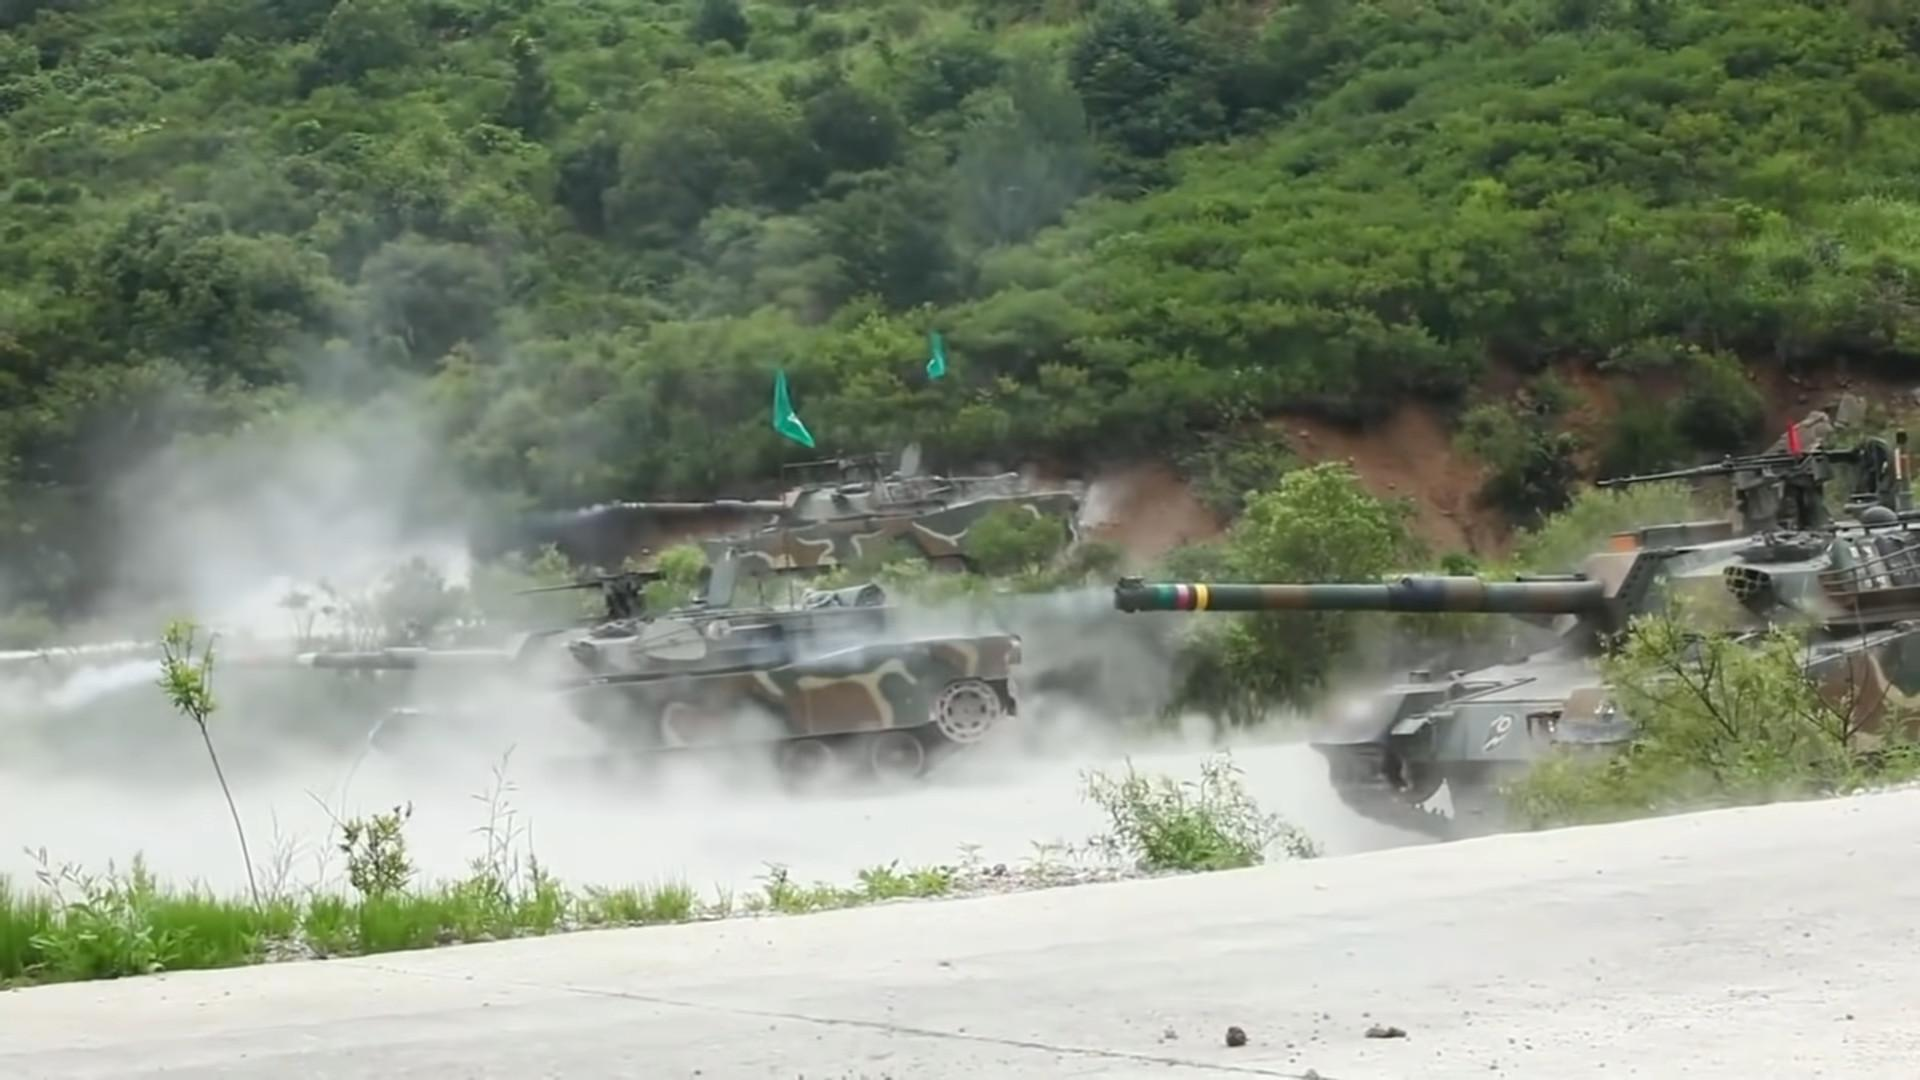tank: (1116, 410, 1919, 843), (206, 545, 1021, 804), (605, 440, 1084, 584)
